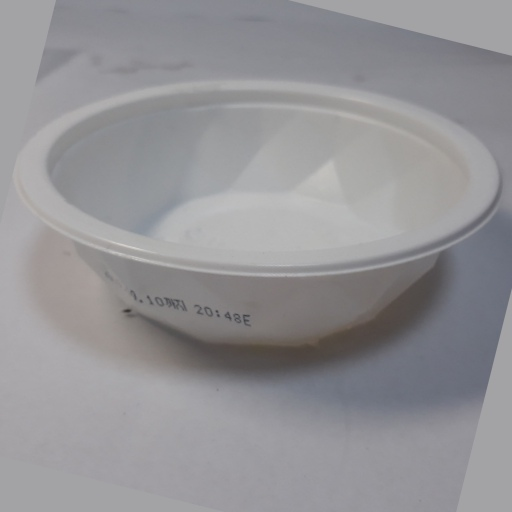Plastic_5: (12, 80, 503, 348)
